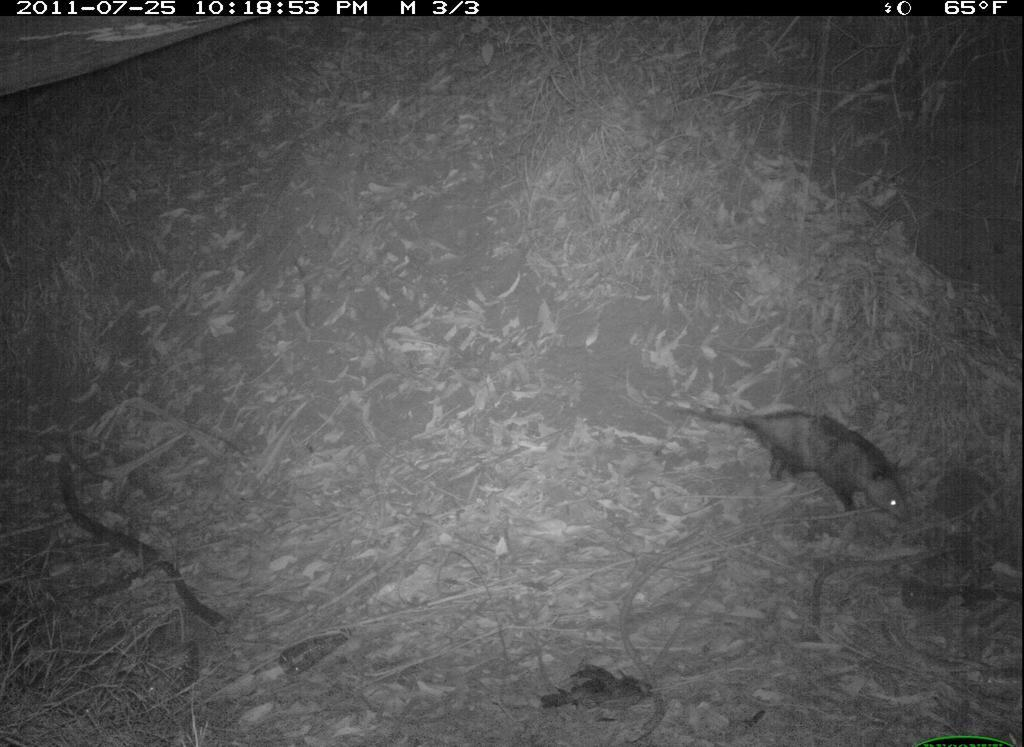opossum: (660, 367, 923, 551)
